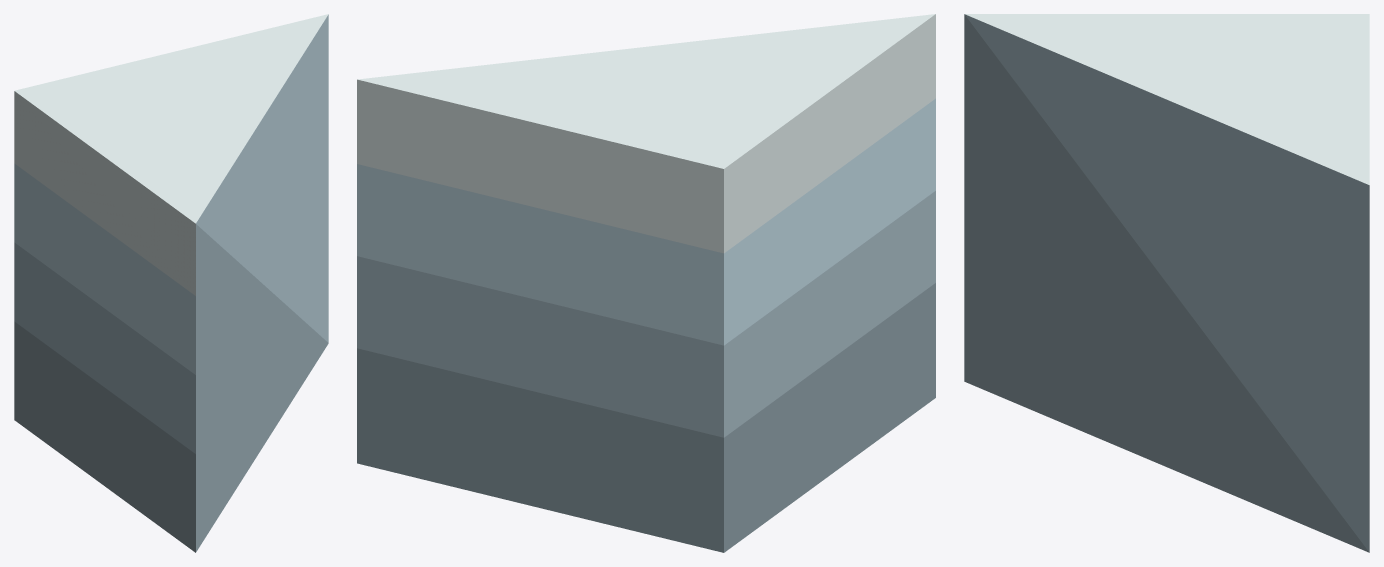
Rendered from Ice_VerticalSlope.glb.
3 renders of one model, left to right at view 1: azimuth 30°, elevation 25°; view 2: azimuth 150°, elevation 25°; view 3: azimuth 270°, elevation 25°, orthographic. The views are drawn at different scales.
Parts seen in each view (by area): view 1: Ice_VerticalSlope_body; view 2: Ice_VerticalSlope_body; view 3: Ice_VerticalSlope_body.
Boxes of the visible parts, bbox=[...] form: Ice_VerticalSlope_body: bbox=[14, 14, 328, 552]; Ice_VerticalSlope_body: bbox=[357, 14, 935, 552]; Ice_VerticalSlope_body: bbox=[964, 14, 1369, 552].
Bounding box in the file's own units: 1 × 1 × 1.
